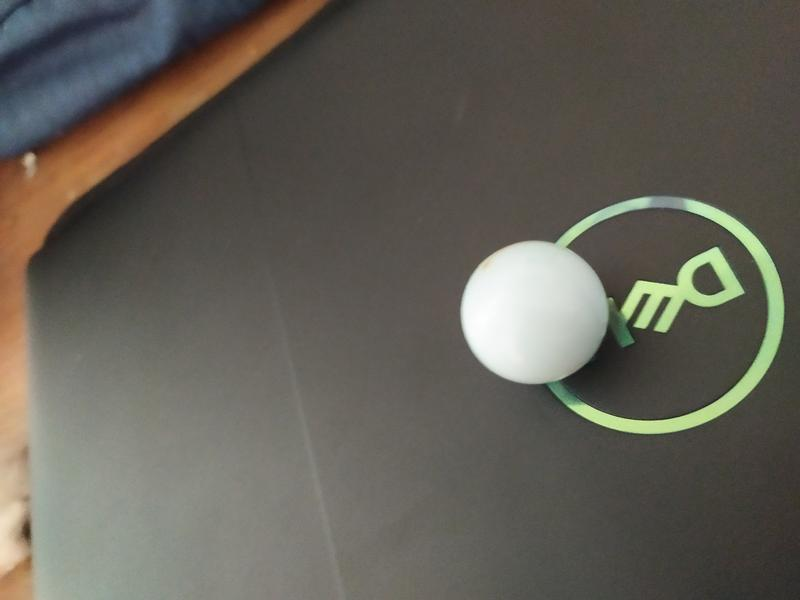Warning: (457, 238, 614, 388)
